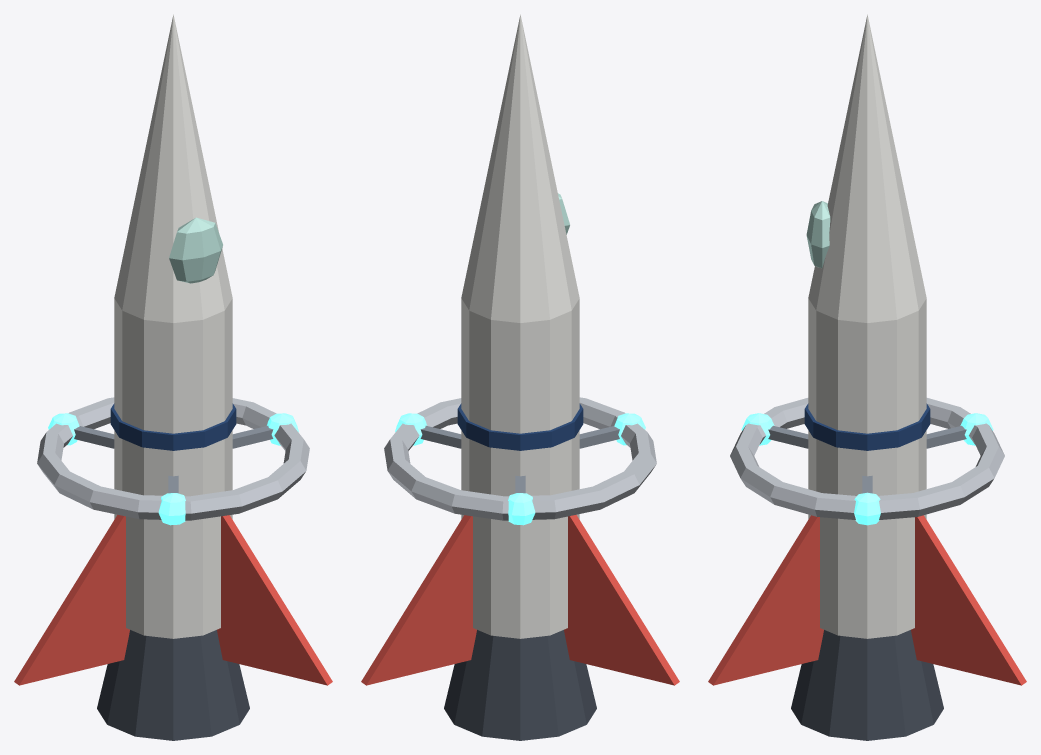
File: vehicle_galaxy.glb
The picture shows the model from 3 angles, left to right: view 1: azimuth 30°, elevation 25°; view 2: azimuth 150°, elevation 25°; view 3: azimuth 270°, elevation 25°; orthographic projection.
Visible parts, largest first — view 1: vehicle_galaxy; view 2: vehicle_galaxy; view 3: vehicle_galaxy.
Part boxes in pixels (x1=…): vehicle_galaxy: x1=14, y1=14, x2=332, y2=740; vehicle_galaxy: x1=361, y1=14, x2=679, y2=740; vehicle_galaxy: x1=708, y1=14, x2=1026, y2=740.
Size of the model in its own units: 0.8455 by 2 by 0.8324.
